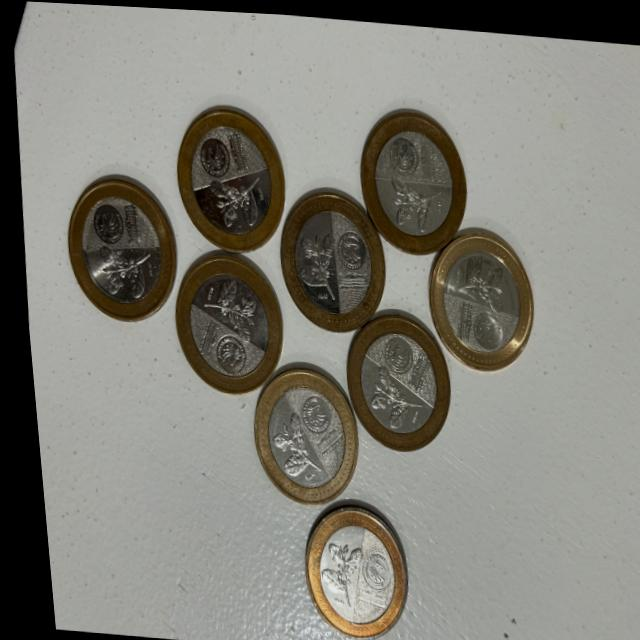20_New_Back: (255, 406, 323, 489), (198, 157, 272, 233)
